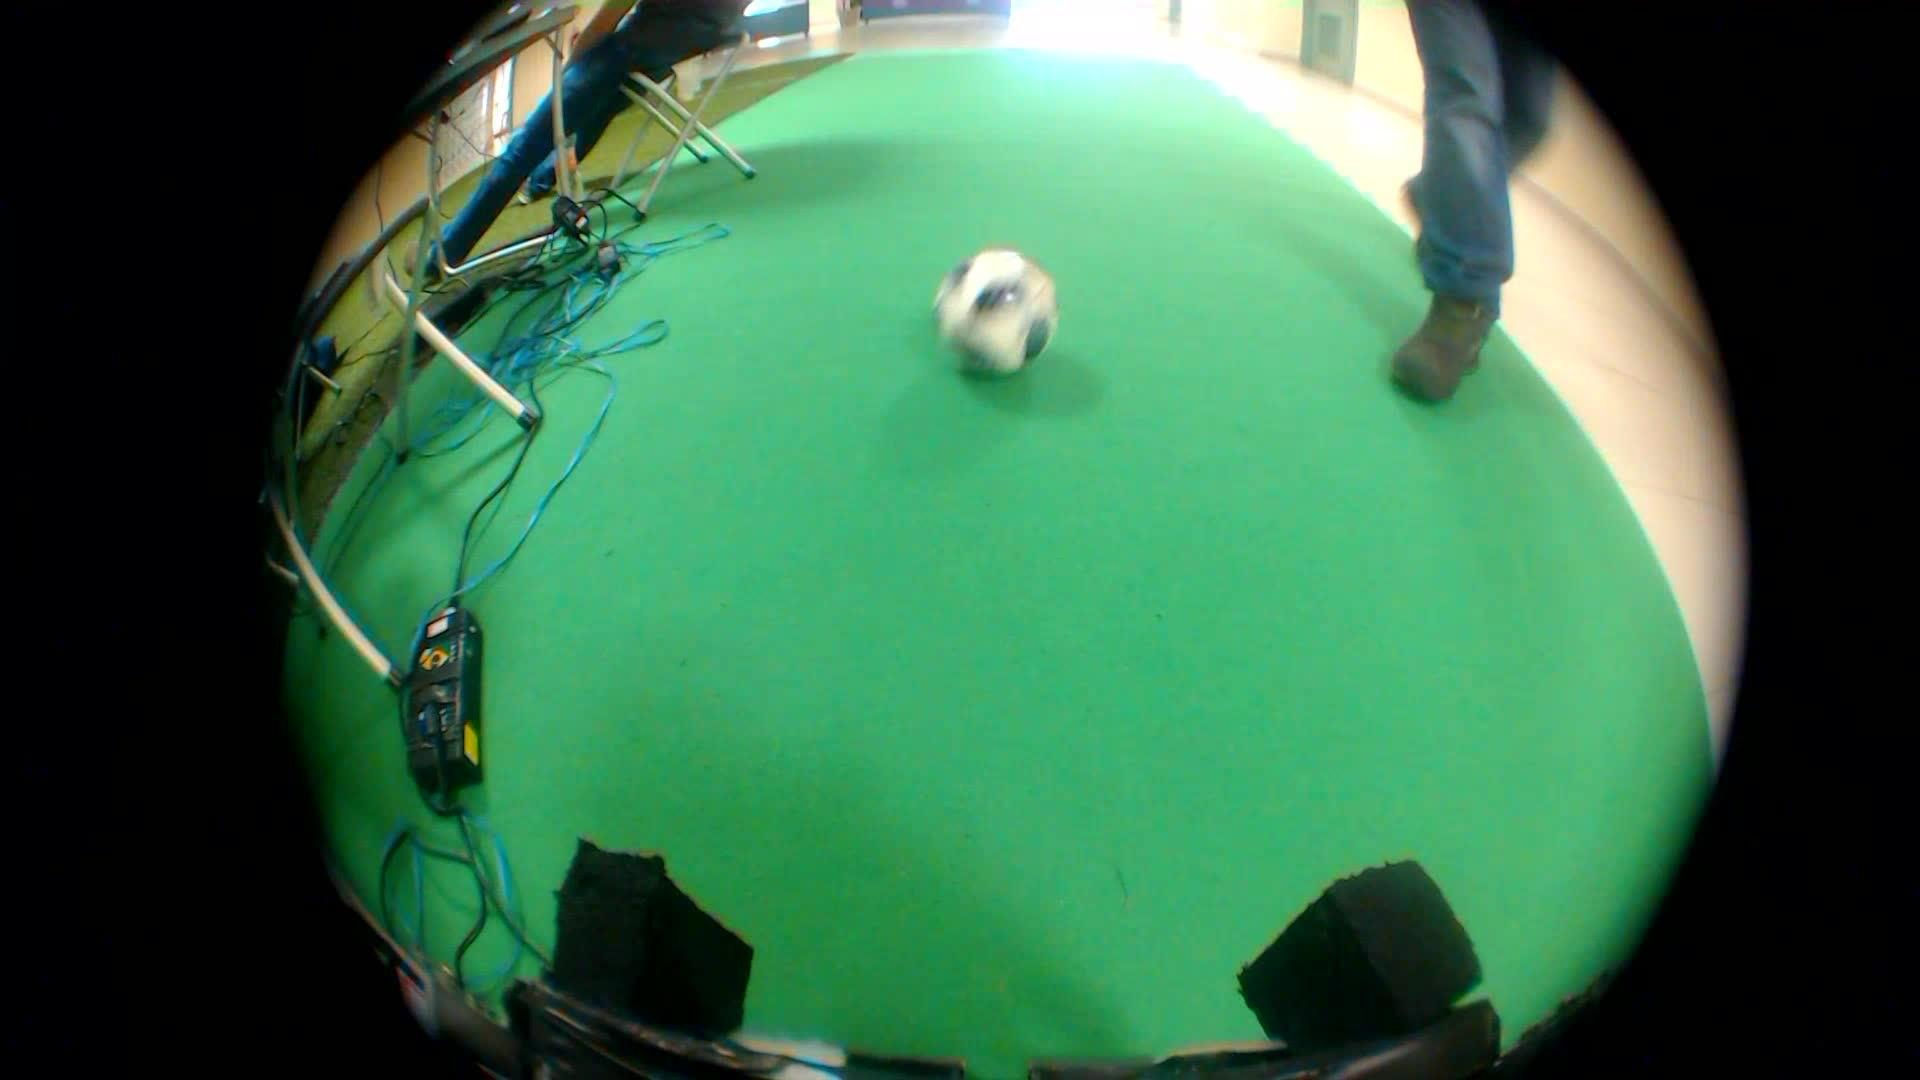ball: (920, 223, 1073, 393)
